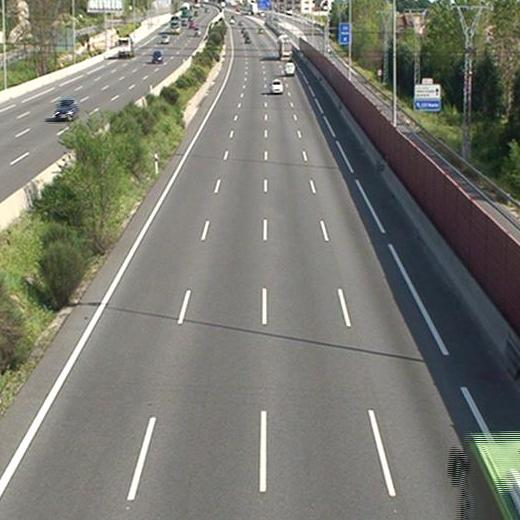car: (270, 80, 282, 93)
tank-truck: (279, 36, 292, 58)
van: (284, 62, 294, 74)
